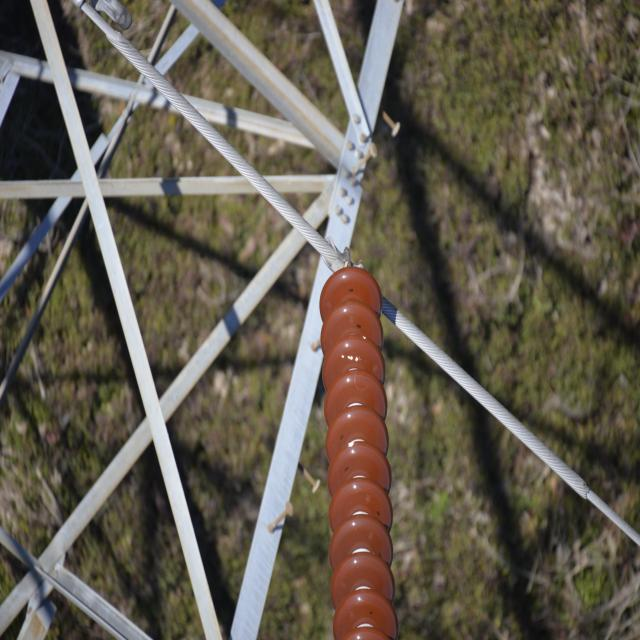insulator: (320, 268, 398, 640)
